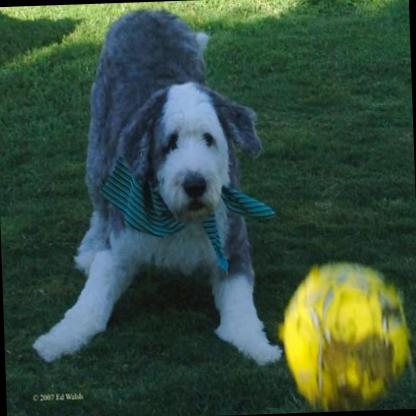Old_English_sheepdog: (18, 2, 281, 374)
